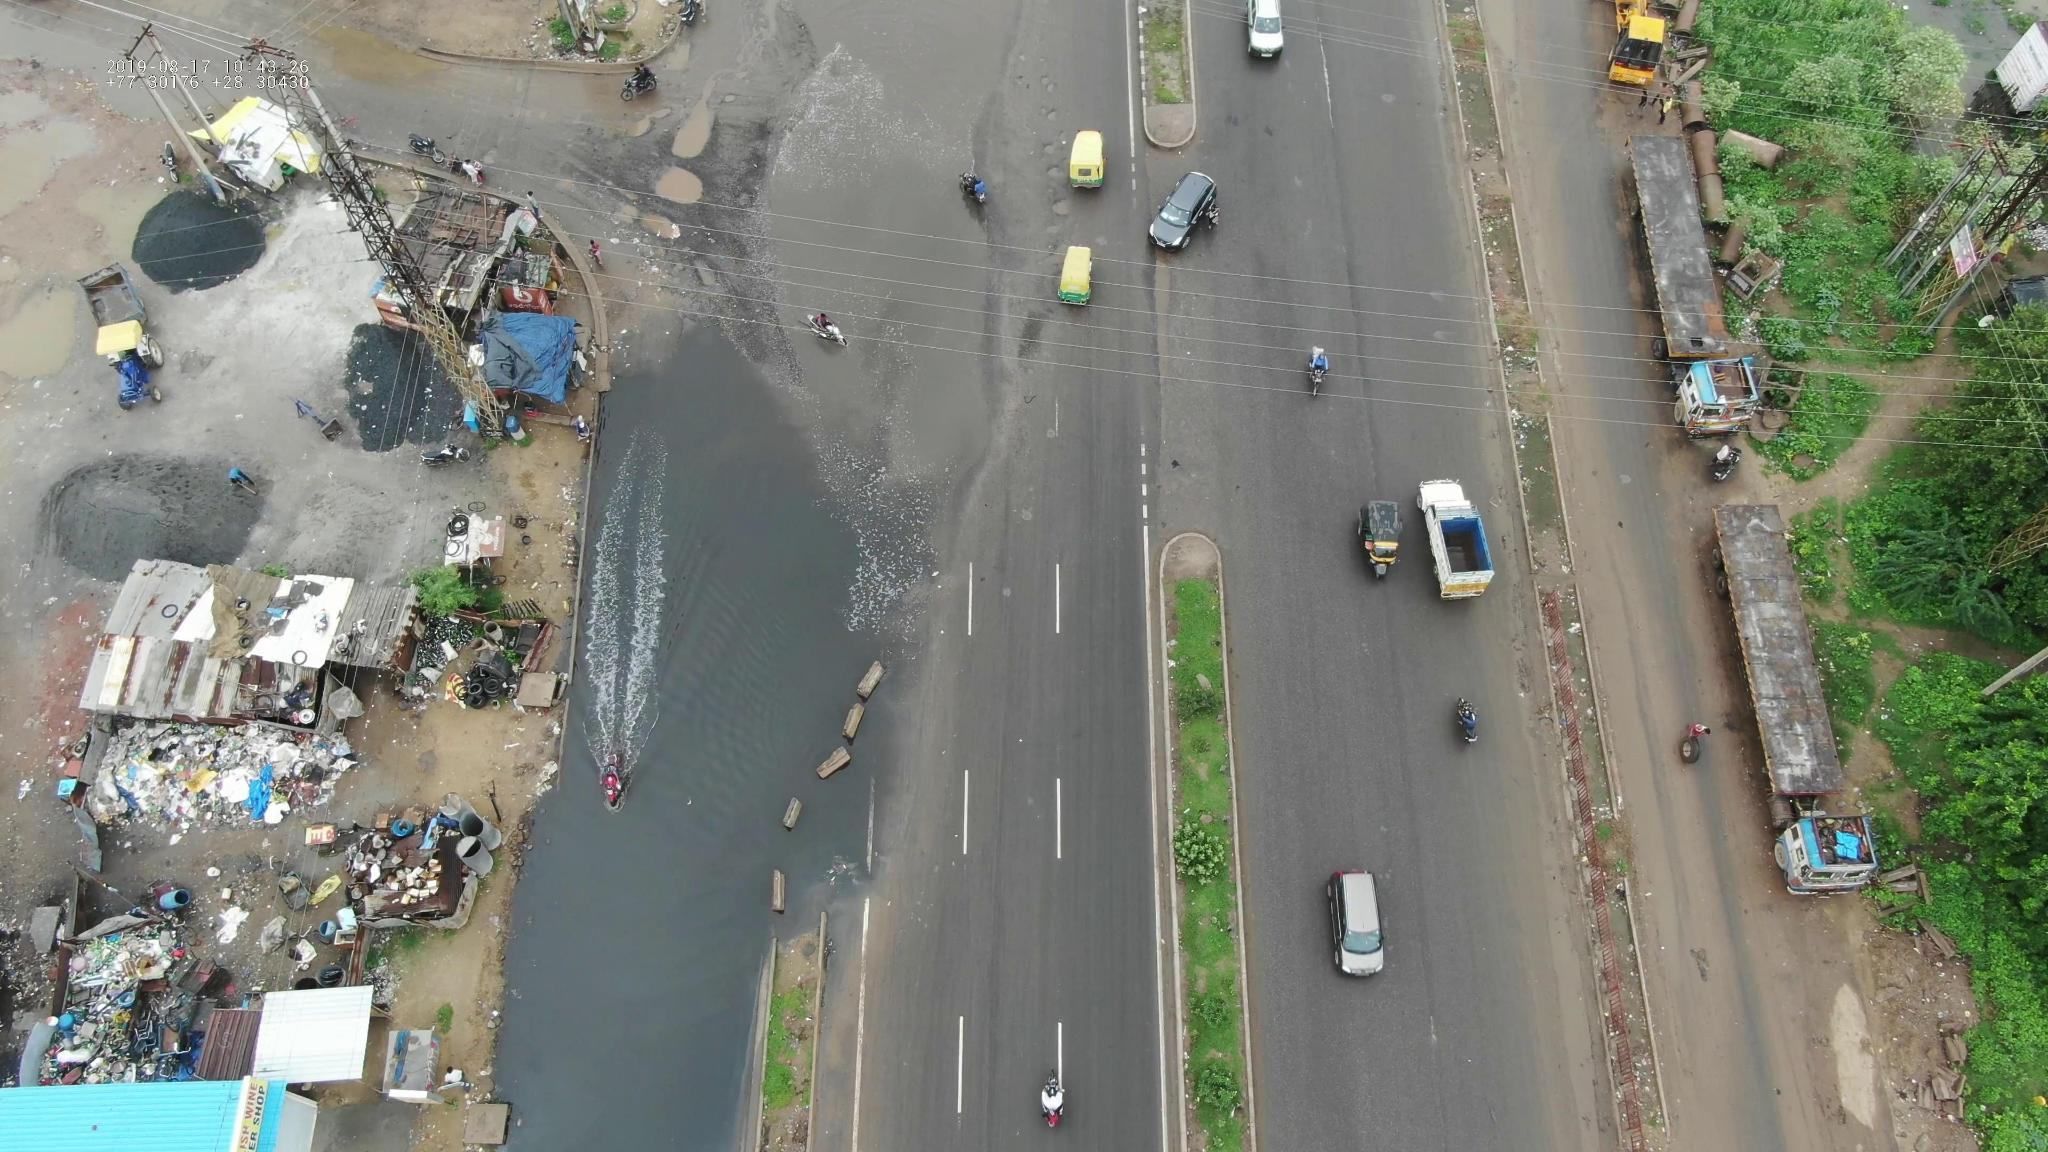Potholes: (587, 103, 724, 263), (975, 484, 1047, 603), (1369, 68, 1405, 141)
Waterlogging: (461, 466, 888, 1128), (710, 93, 1004, 401)
